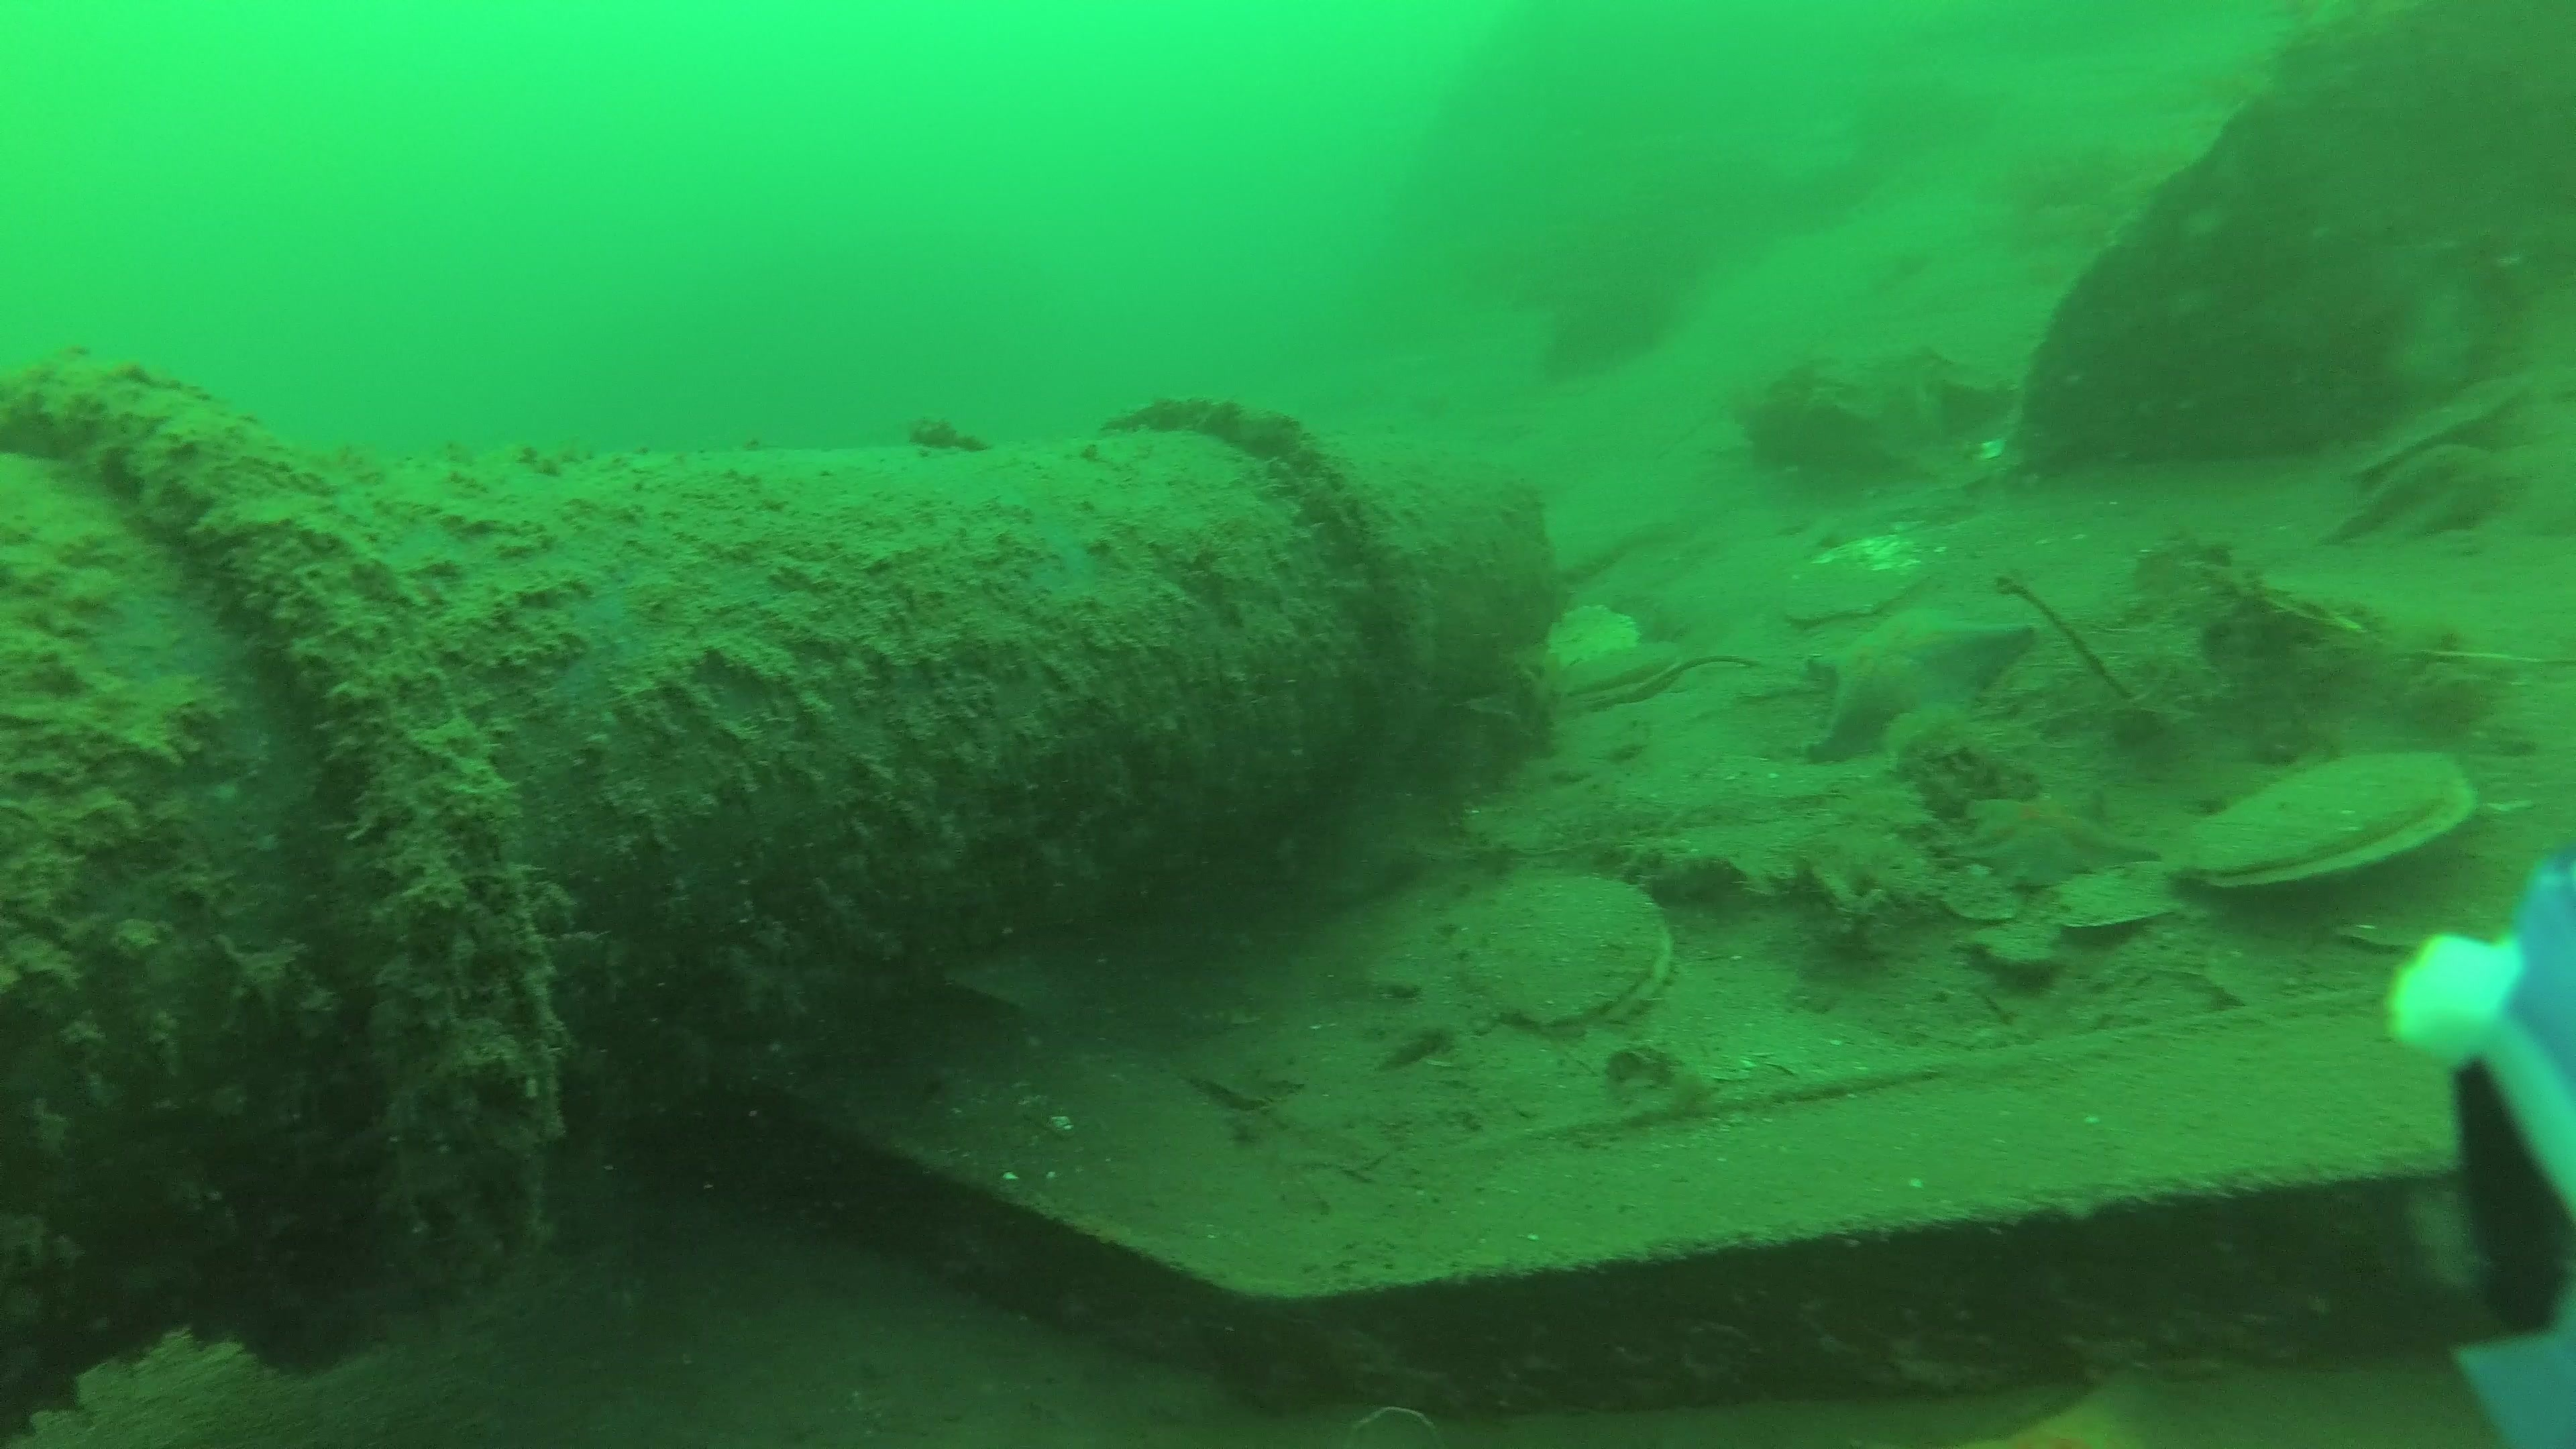scallop: (2162, 750, 2484, 893), (1461, 883, 1667, 1037), (1785, 533, 1927, 625), (1552, 648, 1688, 702)
starfish: (1810, 614, 2043, 770), (1974, 793, 2157, 893)
